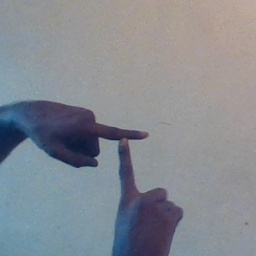T: (82, 109, 172, 207)
